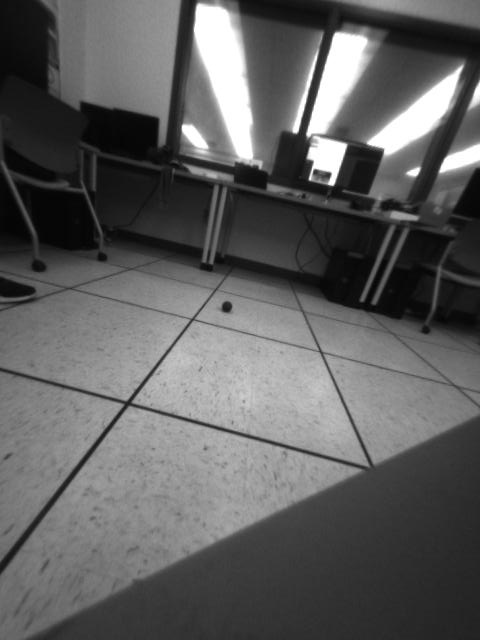dogtoy: (214, 287, 242, 321)
